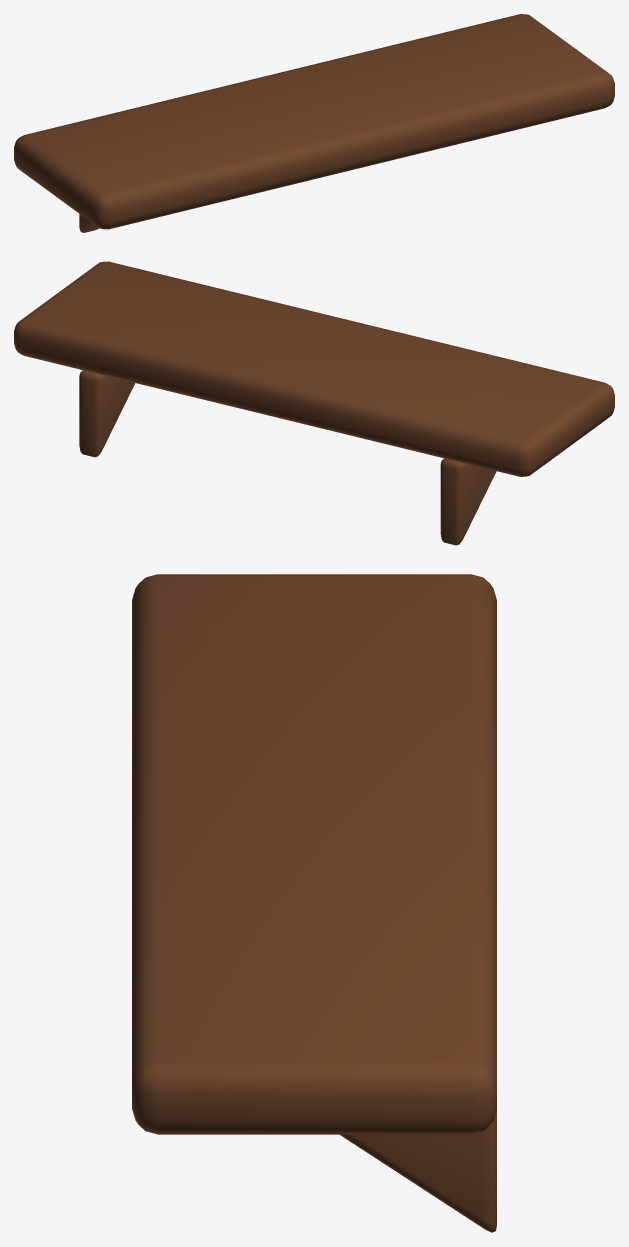
File: prateleira_madeira_escura.glb
The picture shows the model from 3 angles, top to bottom: view 1: azimuth 30°, elevation 25°; view 2: azimuth 150°, elevation 25°; view 3: azimuth 270°, elevation 25°; orthographic projection. The views are drawn at different scales.
Parts seen in each view (by area): view 1: prateleira_madeira_escura; view 2: prateleira_madeira_escura; view 3: prateleira_madeira_escura.
Boxes of the visible parts, x1,y1,x2,y2 form: prateleira_madeira_escura: [14, 14, 614, 232]; prateleira_madeira_escura: [14, 261, 614, 545]; prateleira_madeira_escura: [132, 574, 496, 1232].
Size of the model in its own units: 0.46 by 0.0982 by 0.14.
1 material, 1 textured.
